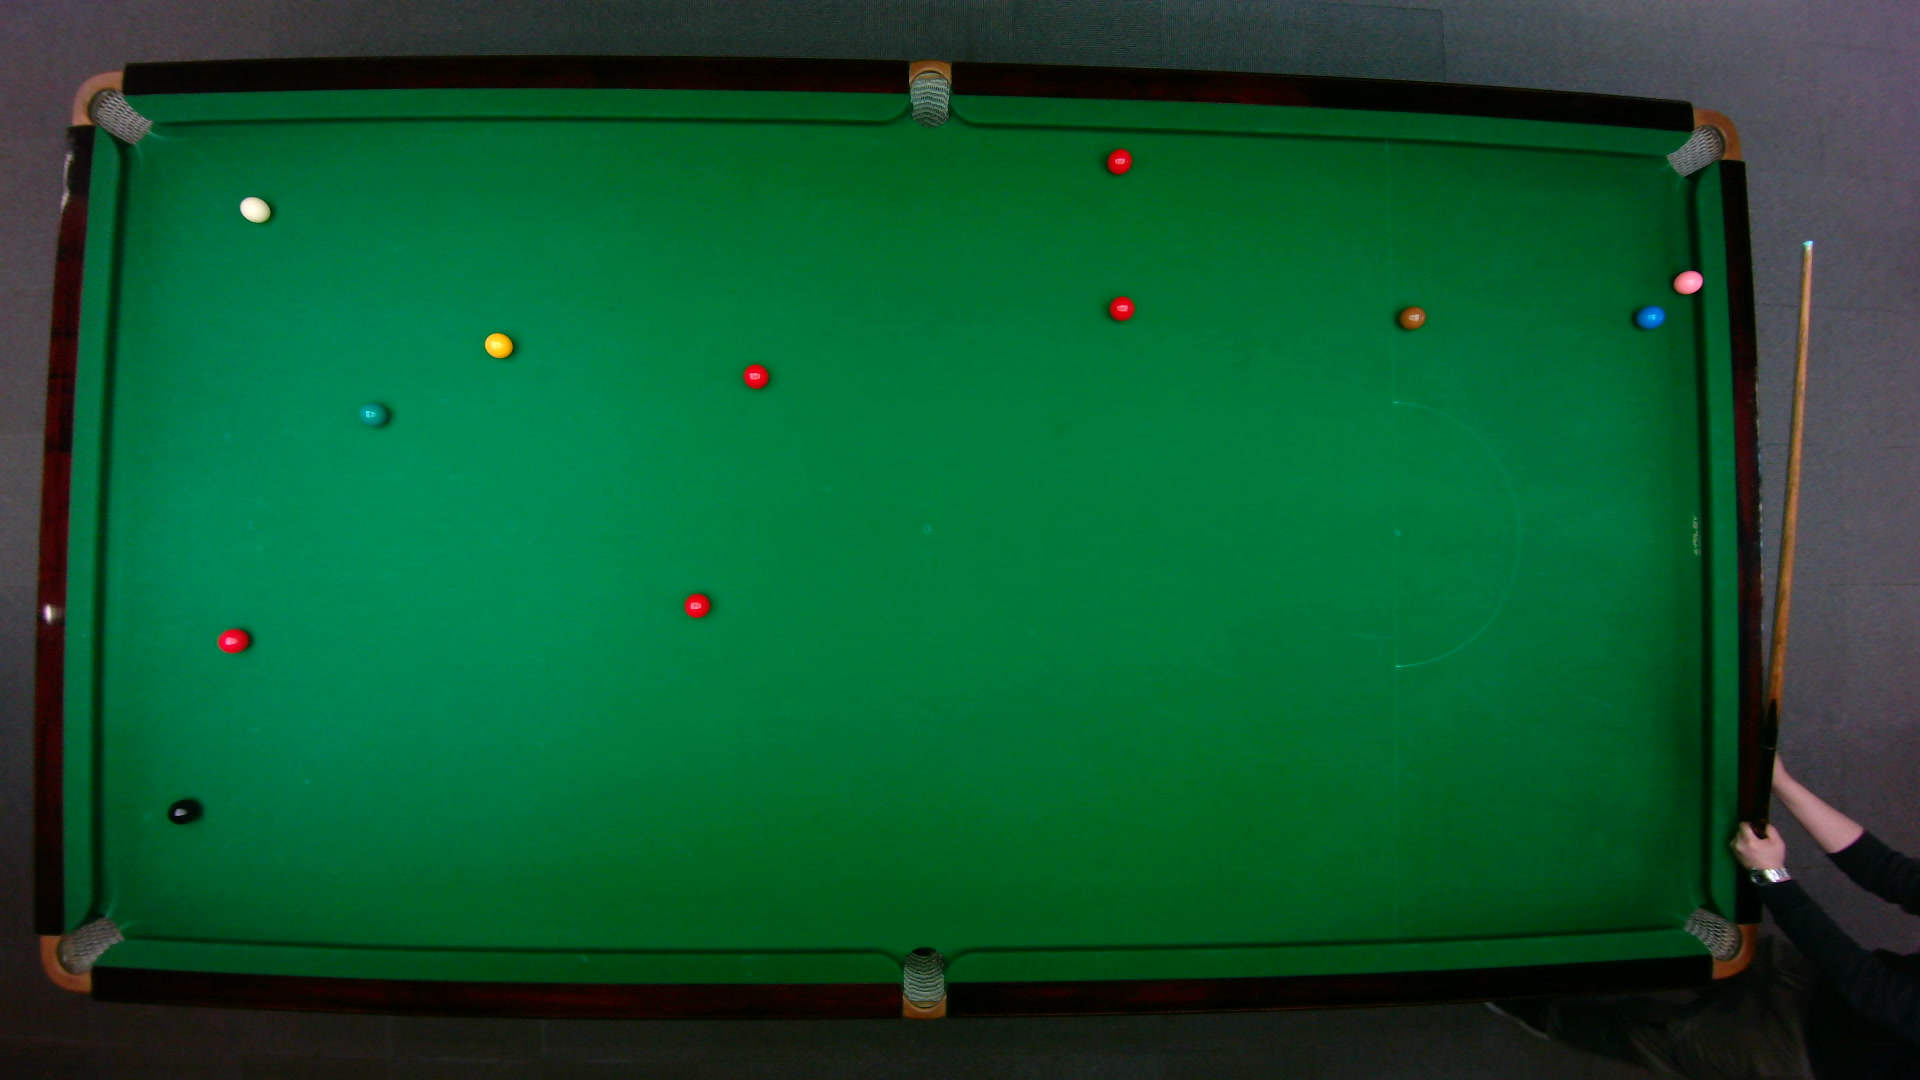bag: (37, 914, 125, 992), (69, 69, 152, 145), (1679, 905, 1756, 978), (1663, 107, 1741, 177), (901, 944, 944, 1021), (909, 57, 949, 128)
black: (165, 796, 196, 824)
blue: (1633, 303, 1665, 328)
brown: (1396, 305, 1427, 328)
cue: (1749, 235, 1825, 837)
green: (357, 400, 386, 427)
pink: (1669, 266, 1704, 295)
red: (215, 626, 251, 654), (1106, 294, 1135, 323), (1104, 146, 1133, 175), (682, 591, 709, 618), (741, 361, 769, 389)
white: (237, 194, 272, 223)
yellow: (483, 330, 513, 359)
zone: (1391, 400, 1520, 669)
